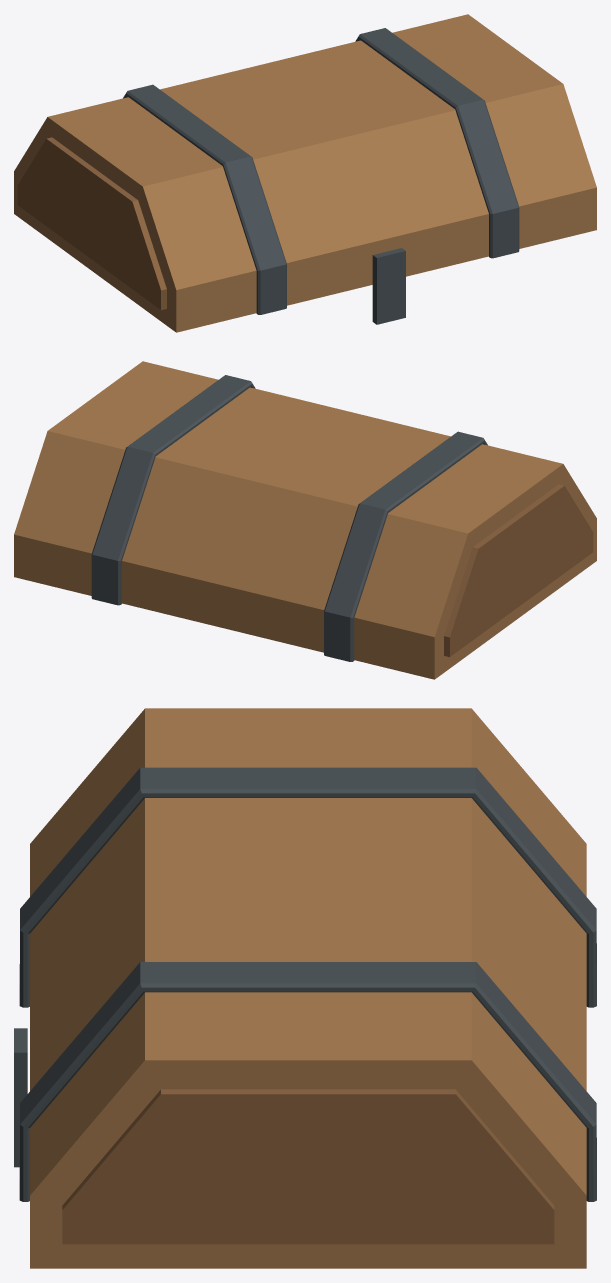
The model's file is mdvl_interiors_chest_lid_01.glb.
3 views of the same model, one above another, from view 1: azimuth 30°, elevation 25°; view 2: azimuth 150°, elevation 25°; view 3: azimuth 270°, elevation 25° (orthographic). The views are drawn at different scales.
Visible parts, largest first — view 1: mdvl_interiors_chest_lid_01; view 2: mdvl_interiors_chest_lid_01; view 3: mdvl_interiors_chest_lid_01.
Boxes of the visible parts, x1,y1,x2,y2 form: mdvl_interiors_chest_lid_01: (14, 14, 596, 332); mdvl_interiors_chest_lid_01: (14, 361, 596, 679); mdvl_interiors_chest_lid_01: (14, 708, 596, 1268).
Bounding box in the file's own units: 0.744 × 0.2685 × 0.507.
1 material, 1 textured.
